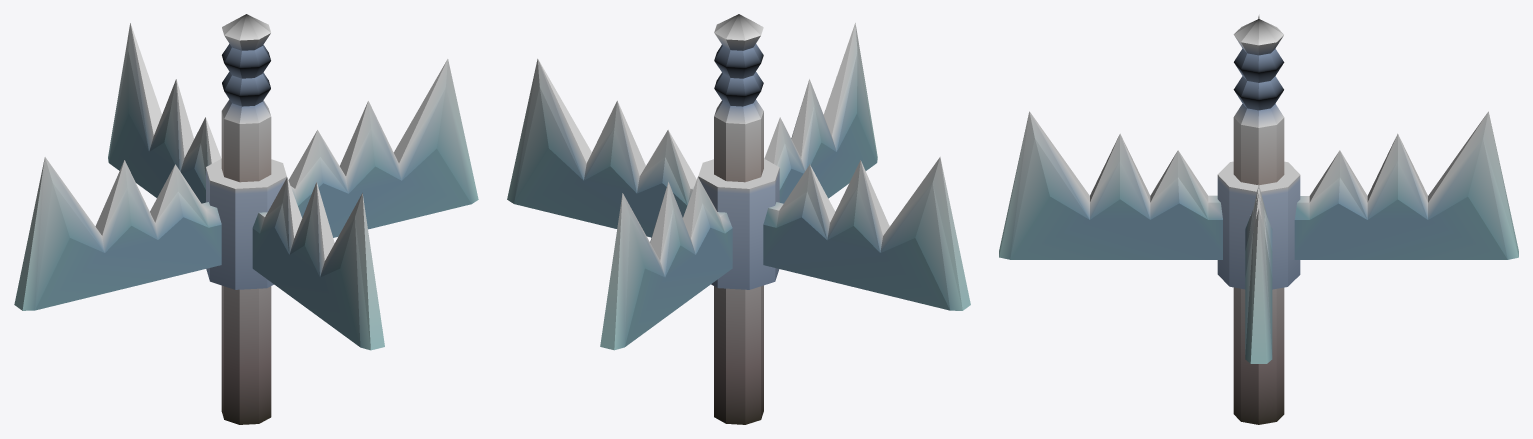
File: teethofjuicer.dae
The picture shows the model from 3 angles, left to right: view 1: azimuth 30°, elevation 25°; view 2: azimuth 150°, elevation 25°; view 3: azimuth 270°, elevation 25°; orthographic projection.
Visible parts, largest first — view 1: m0; view 2: m0; view 3: m0.
Boxes of the visible parts, left/top/right/bottom form: m0: left=14, top=14, right=478, bottom=424; m0: left=507, top=14, right=970, bottom=424; m0: left=999, top=14, right=1518, bottom=424.
Bounding box in the file's own units: 189 × 159 × 189.
